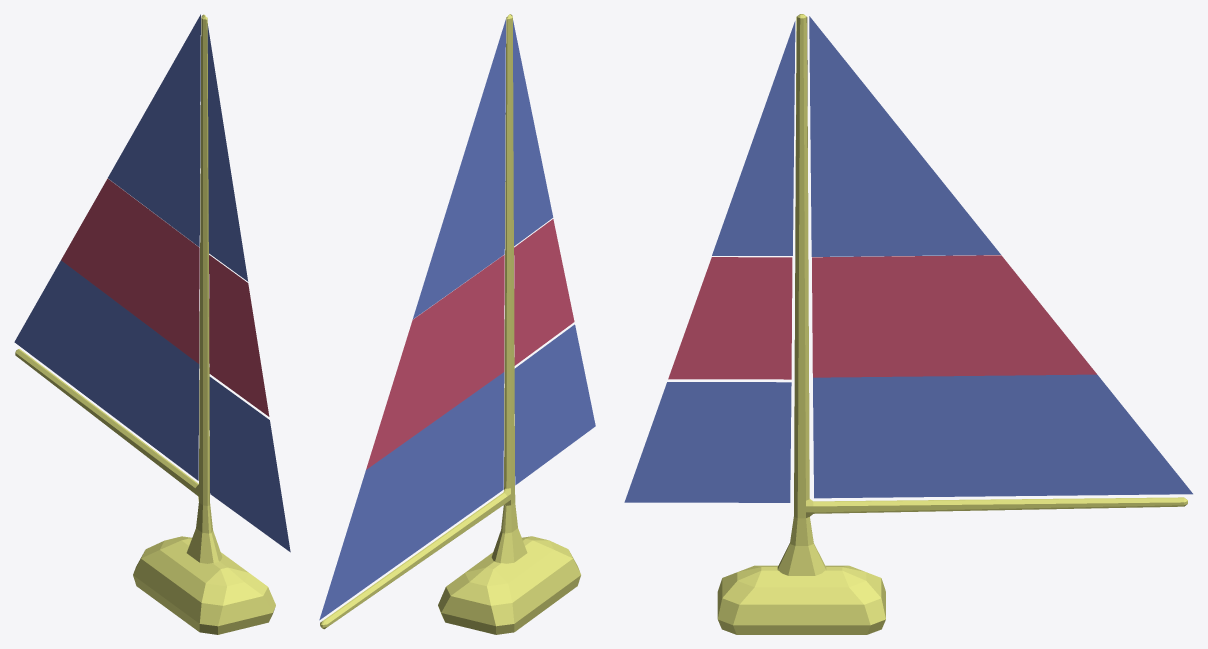
The model's file is sail.glb.
The picture shows the model from 3 angles, left to right: view 1: azimuth 30°, elevation 25°; view 2: azimuth 150°, elevation 25°; view 3: azimuth 270°, elevation 25°; orthographic projection. The views are drawn at different scales.
Visible parts, largest first — view 1: big-sail, detail, small-sail, base, mast, detail-small; view 2: big-sail, detail, small-sail, base, mast, detail-small; view 3: big-sail, detail, small-sail, mast, detail-small, base.
Part boxes in pixels (bbox=[...]): big-sail: bbox=[14, 14, 200, 480]; detail: bbox=[61, 178, 199, 363]; small-sail: bbox=[207, 24, 290, 552]; base: bbox=[133, 536, 275, 634]; mast: bbox=[15, 14, 222, 563]; detail-small: bbox=[209, 255, 269, 416]; big-sail: bbox=[319, 19, 505, 620]; detail: bbox=[366, 255, 504, 469]; small-sail: bbox=[513, 20, 595, 485]; base: bbox=[438, 536, 580, 634]; mast: bbox=[320, 14, 527, 629]; detail-small: bbox=[514, 219, 574, 365]; big-sail: bbox=[809, 16, 1192, 498]; detail: bbox=[812, 255, 1096, 377]; small-sail: bbox=[624, 21, 795, 502]; mast: bbox=[777, 14, 1187, 575]; detail-small: bbox=[668, 257, 792, 379]; base: bbox=[717, 565, 885, 634].
Bounding box in the file's own units: 0.855 × 6.26 × 5.36.
